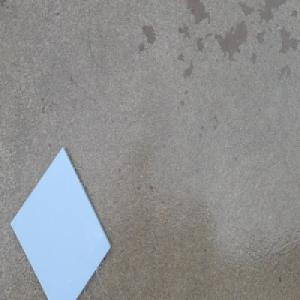PaintChip: (10, 144, 111, 300)
